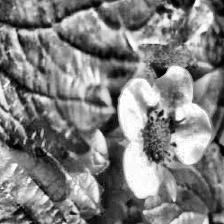Blossom Blight: (138, 106, 179, 168)
